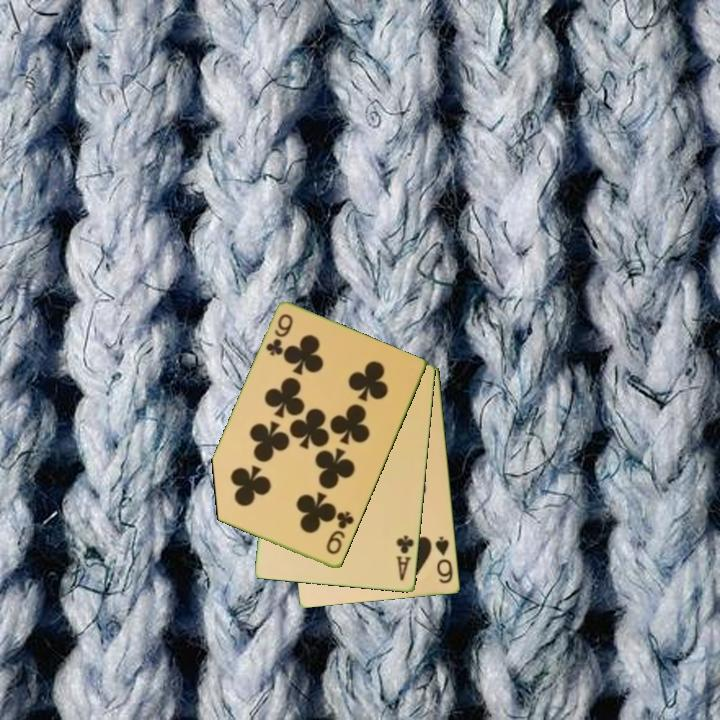6s: (432, 533, 456, 587)
9c: (323, 508, 357, 558), (262, 310, 296, 359)
Ac: (393, 532, 417, 584)
